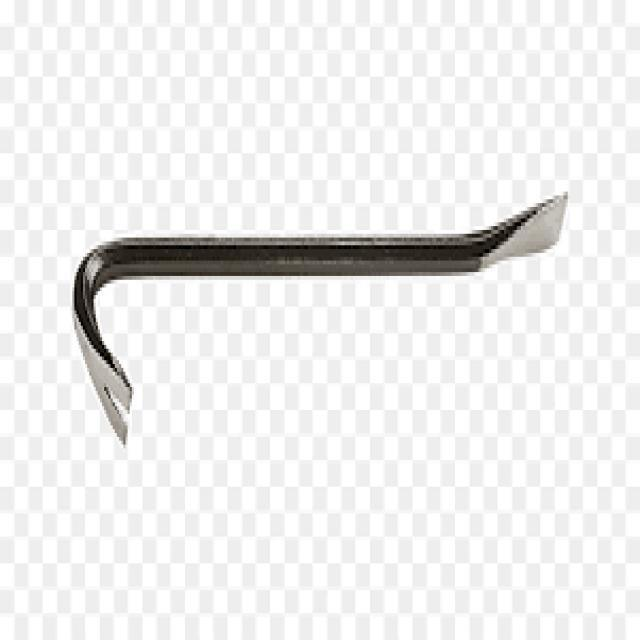Linggis: (62, 182, 570, 456)
